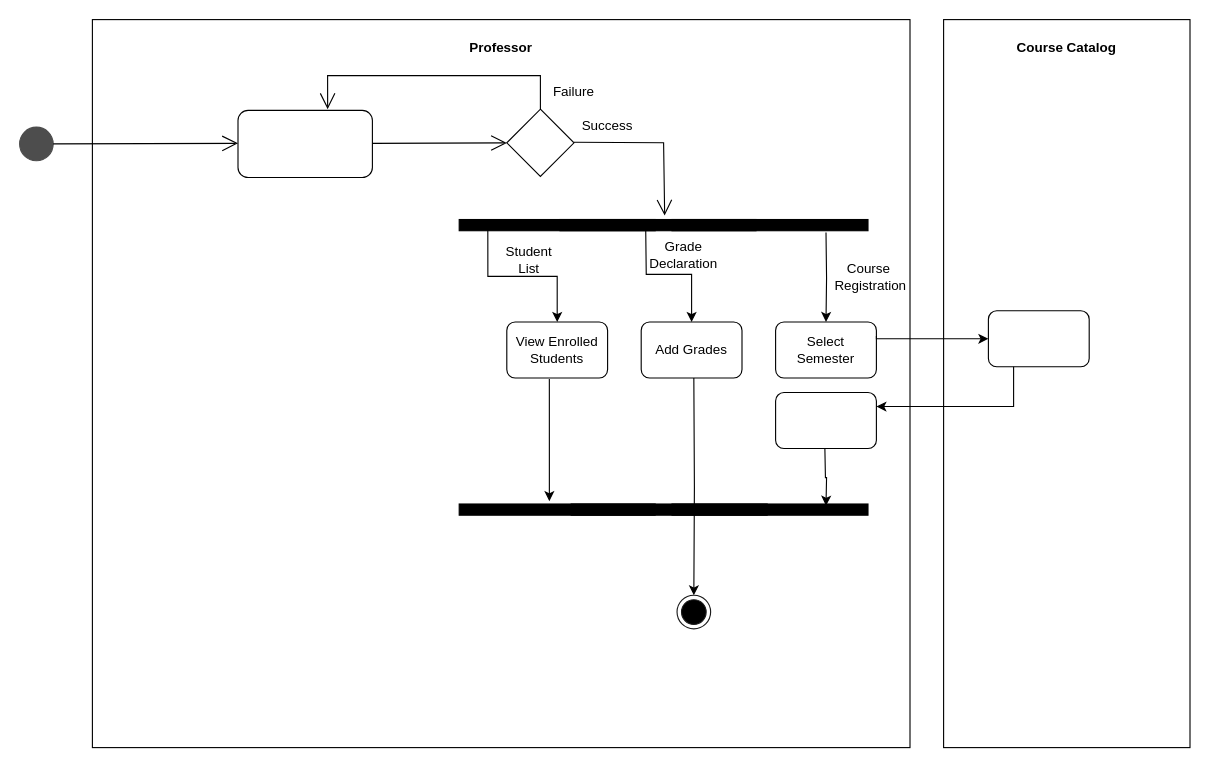
Image size: 1210x767. Some labels were removed from this diagram. Here are the shapes that lost their labels. From the top down, the centre of each, then its label:
At point 304,143: "Login".
At point 1038,338: "Get Available Course".
At point 825,420: "Register for Course".
